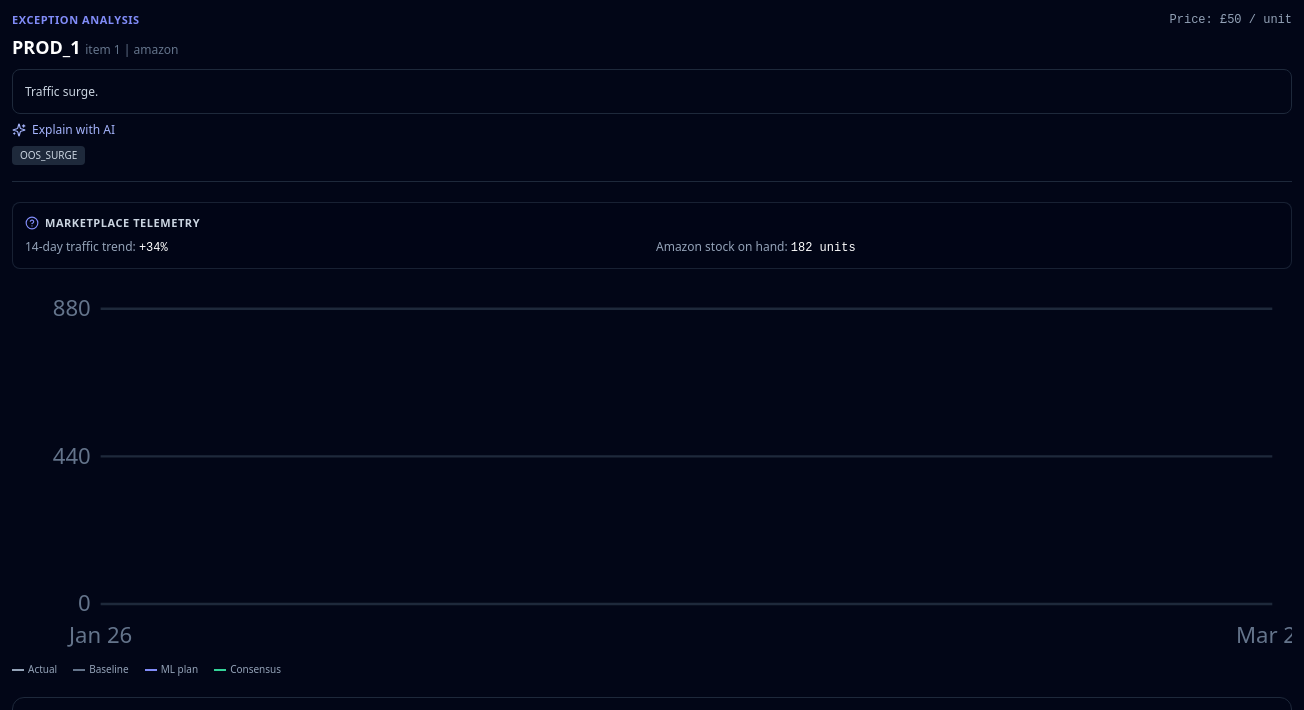
Scenario: DetailPanel › shows an AI explanation with its source when the planner asks for one
Click the button "Explain with AI" at x=64, y=130, box [12, 122, 115, 138]
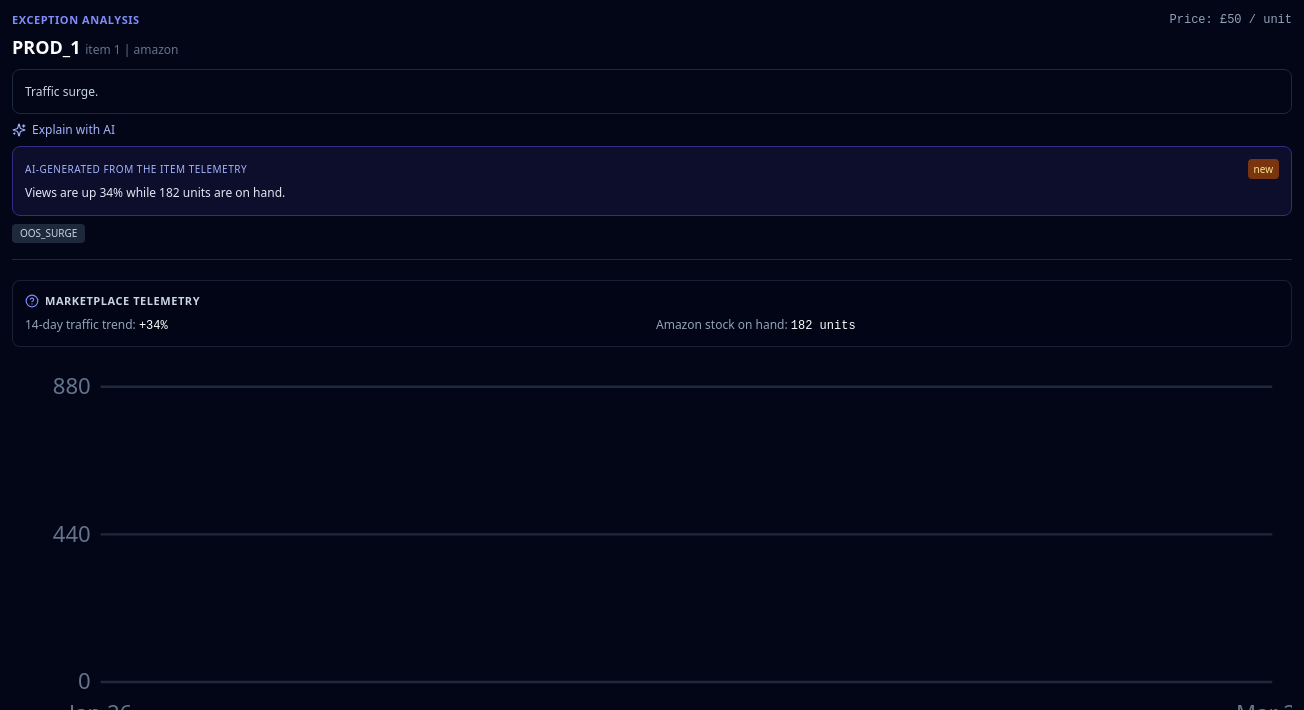
Expected: the element with test id "ai-explanation" shows "Views are up 34% while 182 units are on hand.", [25, 184, 285, 201]
Expected: the element with test id "ai-explanation" shows "AI-generated", [25, 162, 247, 176]
